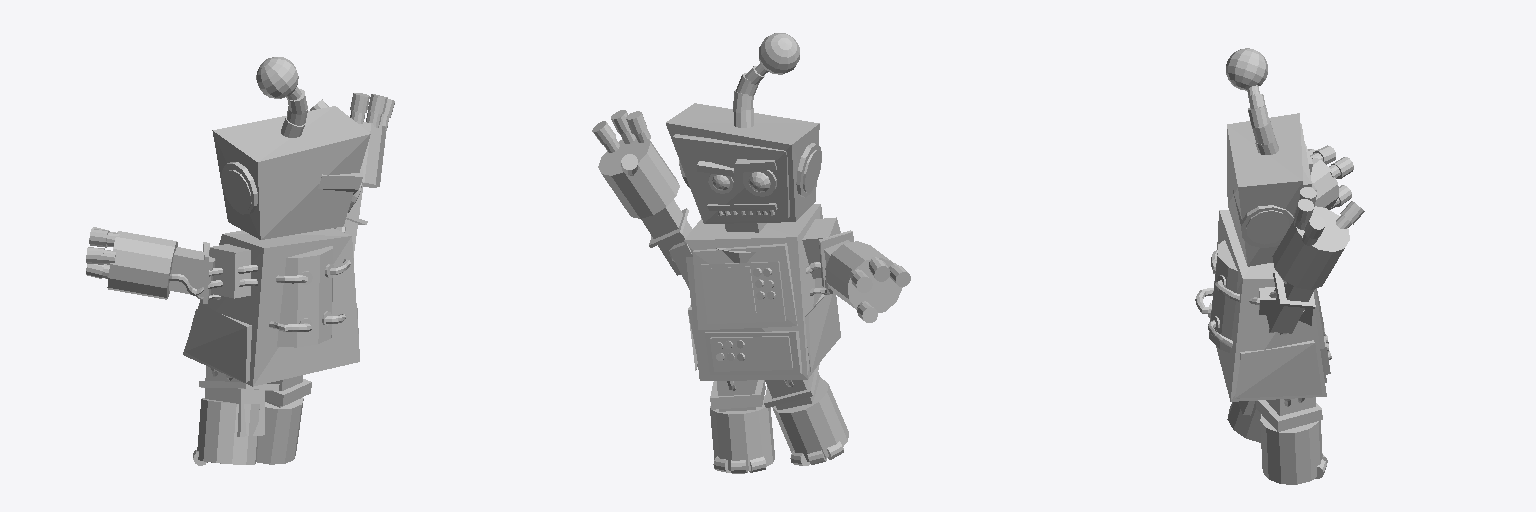
The model's file is robo.obj.
3 renders of one model, left to right at view 1: azimuth 30°, elevation 25°; view 2: azimuth 150°, elevation 25°; view 3: azimuth 270°, elevation 25°, orthographic.
Visible parts, largest first — view 1: group[number redacted], group[number redacted], group[number redacted], group[number redacted], group[number redacted], group[number redacted], group[number redacted], group[number redacted], group[number redacted], group[number redacted], group[number redacted], group[number redacted] (+4 smaller); view 2: group[number redacted], group[number redacted], group[number redacted], group[number redacted], group[number redacted], group[number redacted], group[number redacted], group[number redacted], group[number redacted], group[number redacted], group[number redacted], group[number redacted] (+9 smaller); view 3: group[number redacted], group[number redacted], group[number redacted], group[number redacted], group[number redacted], group[number redacted], group[number redacted], group[number redacted], group[number redacted], group[number redacted], group[number redacted], group[number redacted] (+1 smaller).
Boxes of the visible parts, x1=… form: group[number redacted]: x1=212, y1=106, x2=370, y2=239; group[number redacted]: x1=183, y1=228, x2=359, y2=386; group[number redacted]: x1=277, y1=246, x2=332, y2=347; group[number redacted]: x1=107, y1=231, x2=177, y2=299; group[number redacted]: x1=197, y1=398, x2=259, y2=464; group[number redacted]: x1=185, y1=304, x2=251, y2=382; group[number redacted]: x1=257, y1=397, x2=303, y2=464; group[number redacted]: x1=209, y1=244, x2=250, y2=298; group[number redacted]: x1=205, y1=366, x2=264, y2=436; group[number redacted]: x1=256, y1=57, x2=298, y2=98; group[number redacted]: x1=169, y1=247, x2=215, y2=297; group[number redacted]: x1=359, y1=122, x2=386, y2=187; group[number redacted]: x1=684, y1=204, x2=824, y2=380; group[number redacted]: x1=666, y1=103, x2=819, y2=223; group[number redacted]: x1=672, y1=134, x2=789, y2=221; group[number redacted]: x1=598, y1=139, x2=679, y2=218; group[number redacted]: x1=772, y1=378, x2=848, y2=461; group[number redacted]: x1=710, y1=396, x2=774, y2=470; group[number redacted]: x1=825, y1=241, x2=902, y2=312; group[number redacted]: x1=693, y1=243, x2=797, y2=329; group[number redacted]: x1=710, y1=336, x2=792, y2=371; group[number redacted]: x1=704, y1=266, x2=756, y2=315; group[number redacted]: x1=701, y1=261, x2=785, y2=323; group[number redacted]: x1=805, y1=292, x2=840, y2=371; group[number redacted]: x1=1227, y1=113, x2=1302, y2=266; group[number redacted]: x1=1216, y1=210, x2=1326, y2=401; group[number redacted]: x1=1235, y1=340, x2=1321, y2=398; group[number redacted]: x1=1272, y1=206, x2=1349, y2=289; group[number redacted]: x1=1260, y1=414, x2=1322, y2=484; group[number redacted]: x1=1209, y1=240, x2=1237, y2=352; group[number redacted]: x1=1226, y1=48, x2=1267, y2=90; group[number redacted]: x1=1266, y1=282, x2=1314, y2=333; group[number redacted]: x1=1246, y1=210, x2=1289, y2=244; group[number redacted]: x1=1256, y1=400, x2=1322, y2=431; group[number redacted]: x1=1311, y1=158, x2=1338, y2=209; group[number redacted]: x1=1227, y1=401, x2=1260, y2=442.
Size of the model in its own units: 7.75 by 9.87 by 3.63.